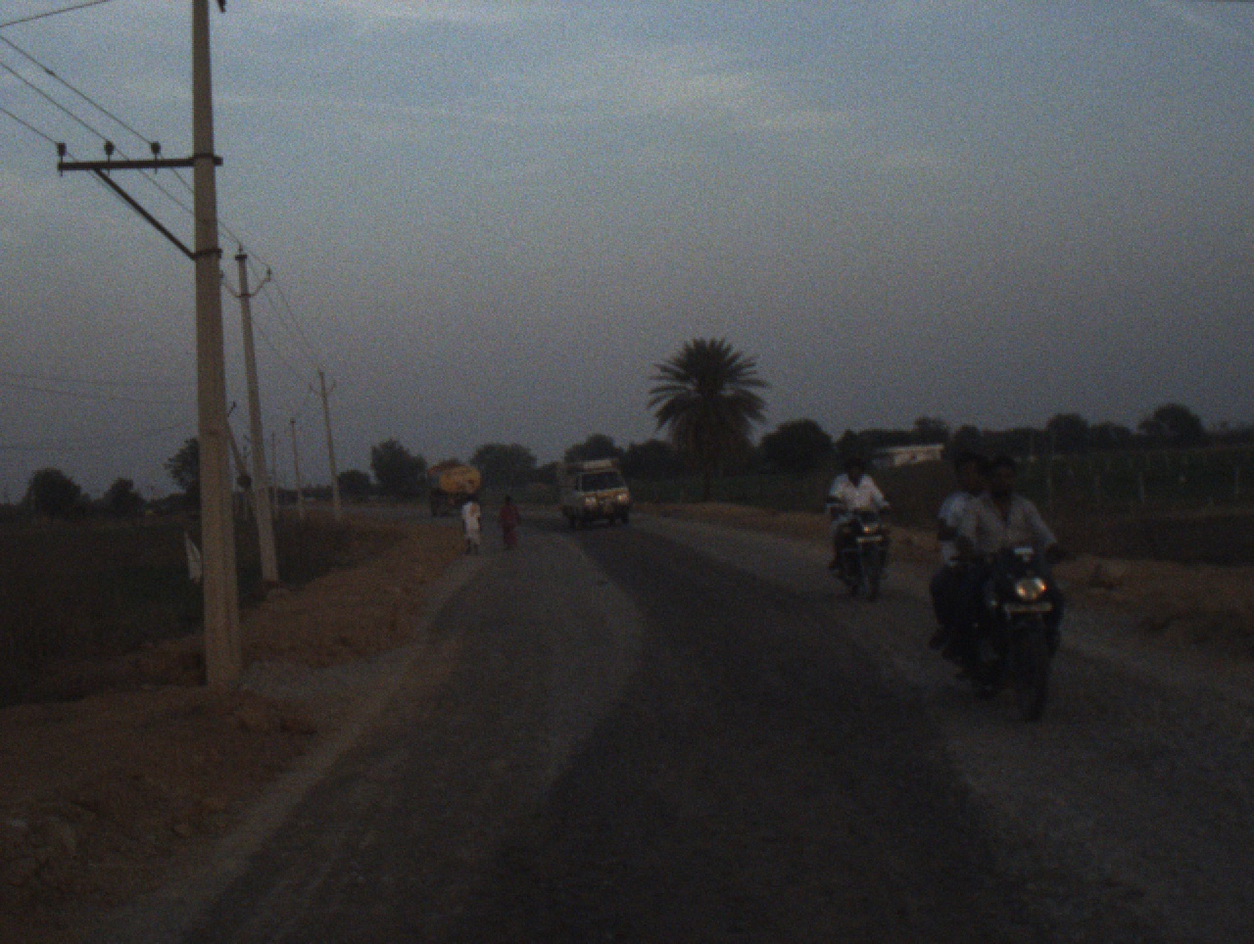motorcycle: (923, 533, 1079, 723), (817, 496, 903, 611)
person: (455, 485, 479, 558), (498, 487, 524, 547)
rider: (951, 456, 1070, 680), (930, 456, 996, 649), (828, 446, 891, 585), (830, 467, 877, 533)
truck: (553, 448, 637, 529), (418, 447, 483, 517)
